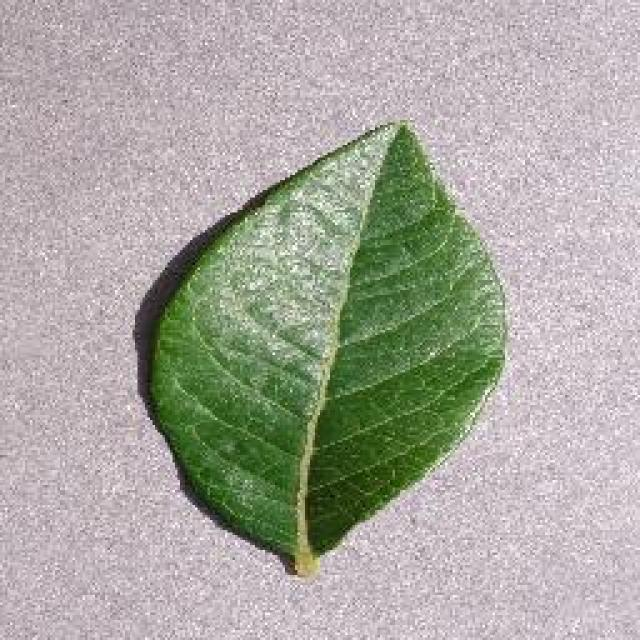Blu_healthy: (171, 177, 509, 535)
